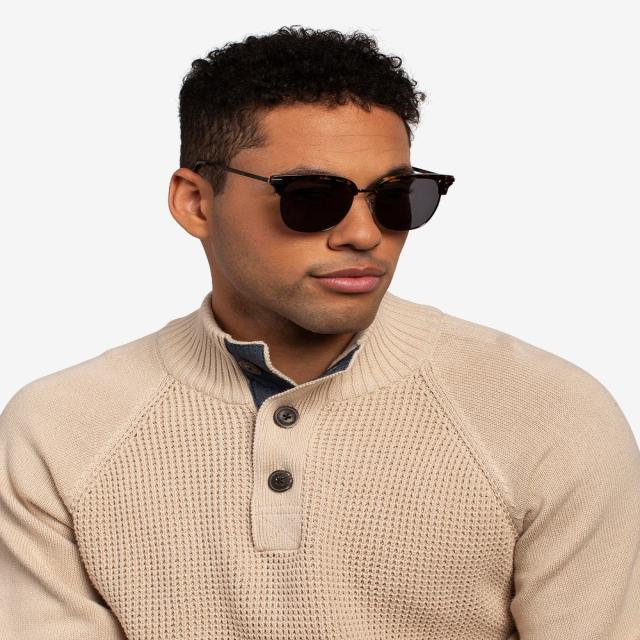2_gafas: (190, 159, 454, 234)
